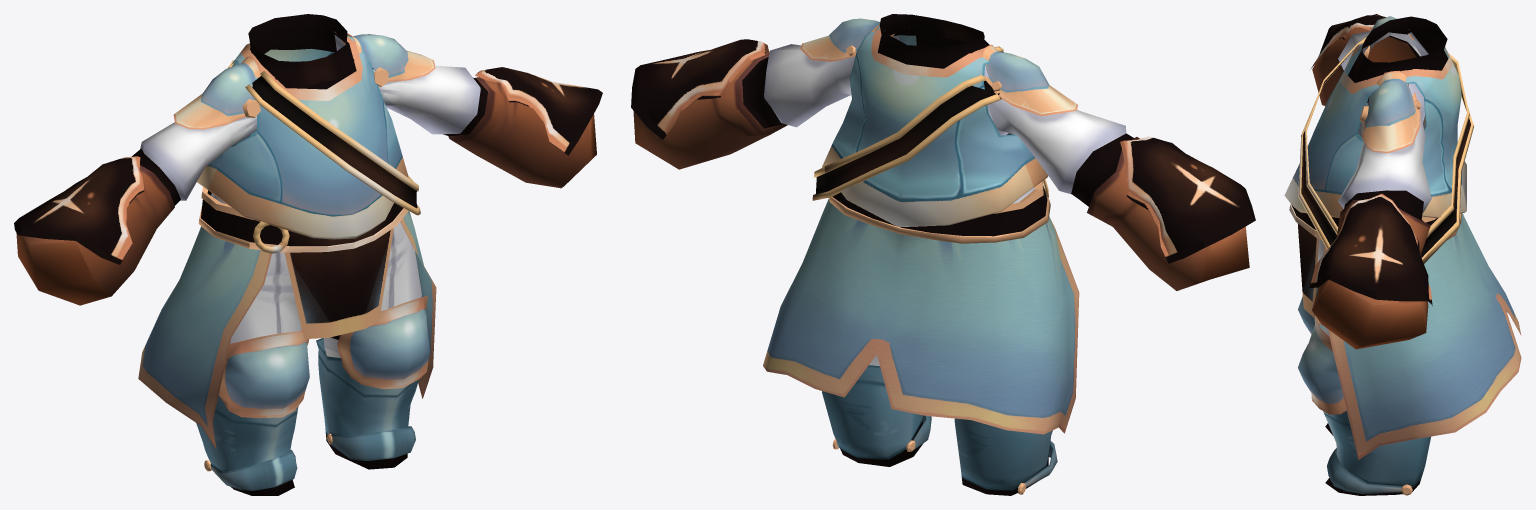
File: armor_armor of valhalla.FBX
The picture shows the model from 3 angles, left to right: view 1: azimuth 30°, elevation 25°; view 2: azimuth 150°, elevation 25°; view 3: azimuth 270°, elevation 25°; orthographic projection. The views are drawn at different scales.
Parts seen in each view (by area): view 1: Object002; view 2: Object002; view 3: Object002.
Part boxes in pixels (bbox=[...]): Object002: bbox=[14, 14, 602, 495]; Object002: bbox=[631, 14, 1255, 495]; Object002: bbox=[1284, 14, 1521, 495].
Bounding box in the file's own units: 179 × 123 × 63.31.
